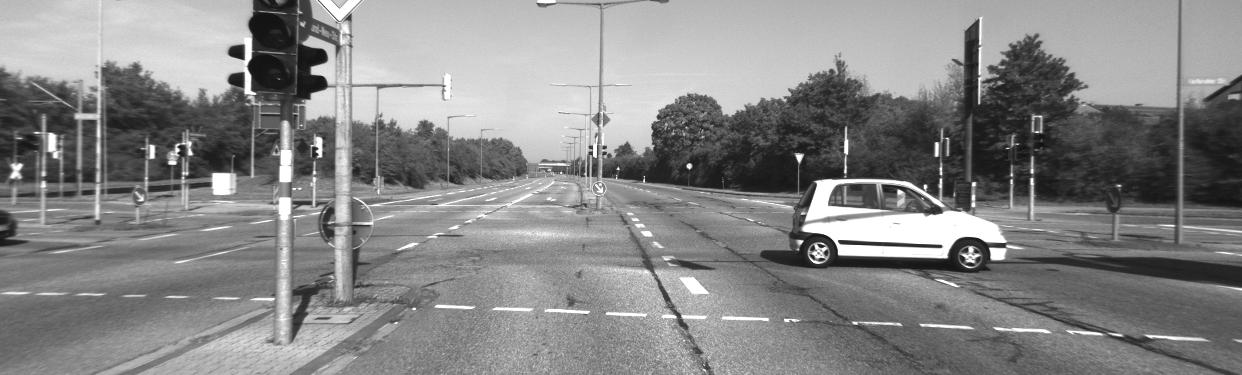car: (784, 174, 1020, 289)
